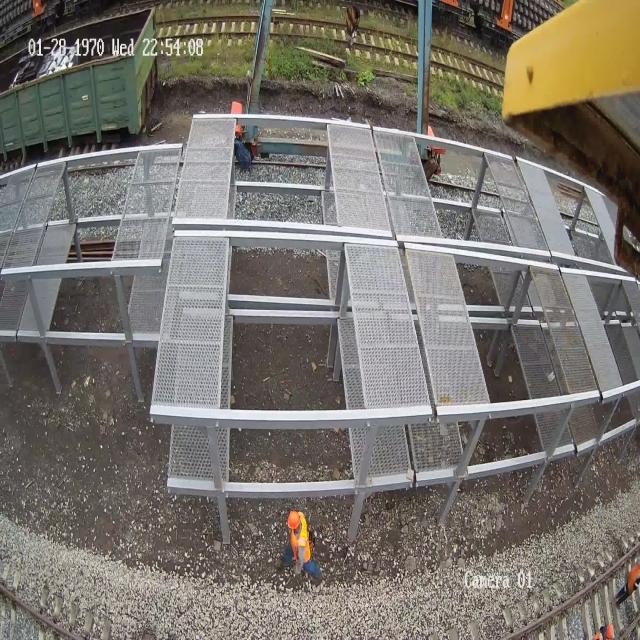Helmet: (598, 619, 617, 640), (287, 510, 300, 529)
Person: (286, 509, 323, 581), (592, 560, 640, 593)
